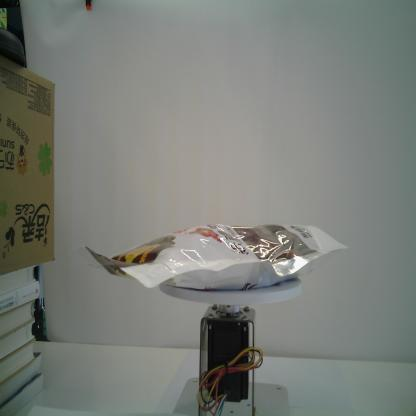Dried Food: (85, 222, 349, 293)
